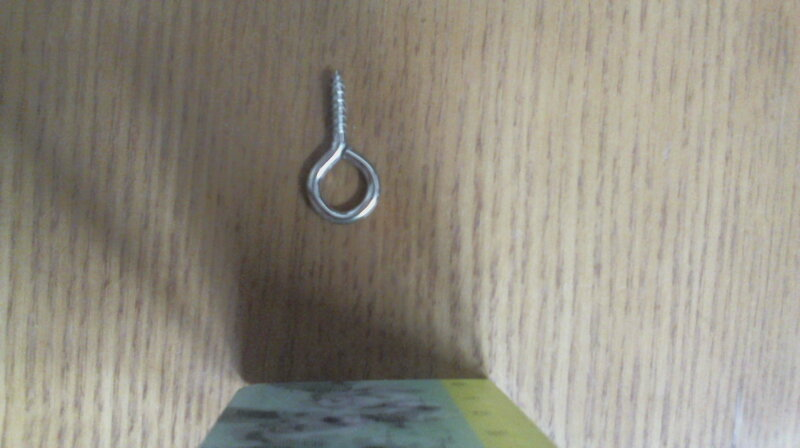O001: (302, 69, 383, 225)
